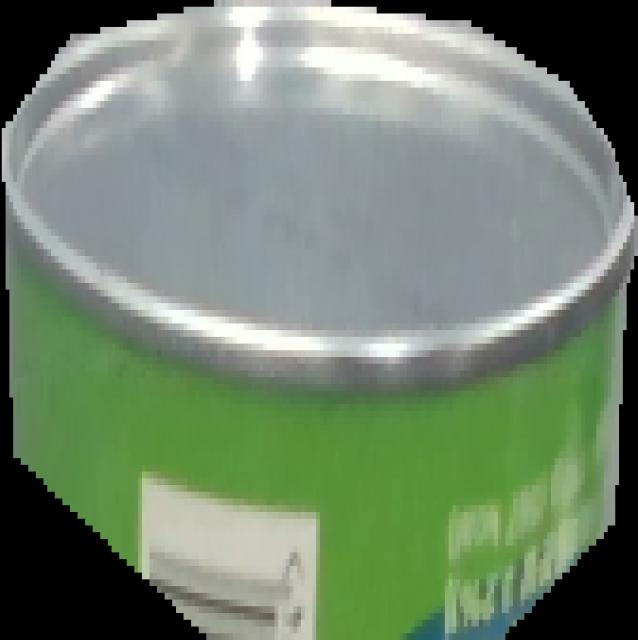bottom: (1, 0, 638, 640)
